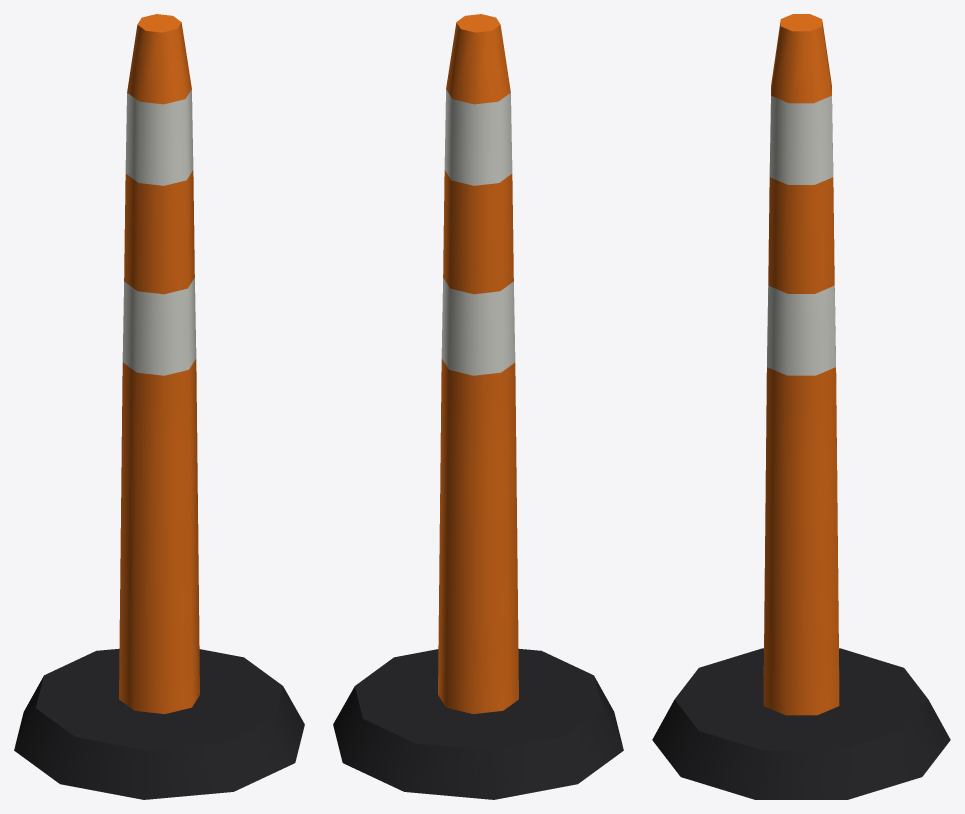
The model's file is delineador.glb.
3 renders of one model, left to right at view 1: azimuth 30°, elevation 25°; view 2: azimuth 150°, elevation 25°; view 3: azimuth 270°, elevation 25°, orthographic.
Visible parts, largest first — view 1: Inteiro; view 2: Inteiro; view 3: Inteiro.
Part boxes in pixels (box(x1,y1,x2,y2)): Inteiro: box(14, 14, 304, 799); Inteiro: box(333, 14, 623, 799); Inteiro: box(652, 14, 950, 799).
Bounding box in the file's own units: 0.3804 × 1.06 × 0.4.
1 material, 1 textured.
